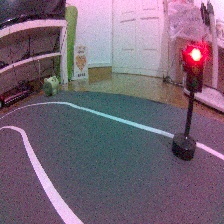red: (170, 42, 206, 163)
